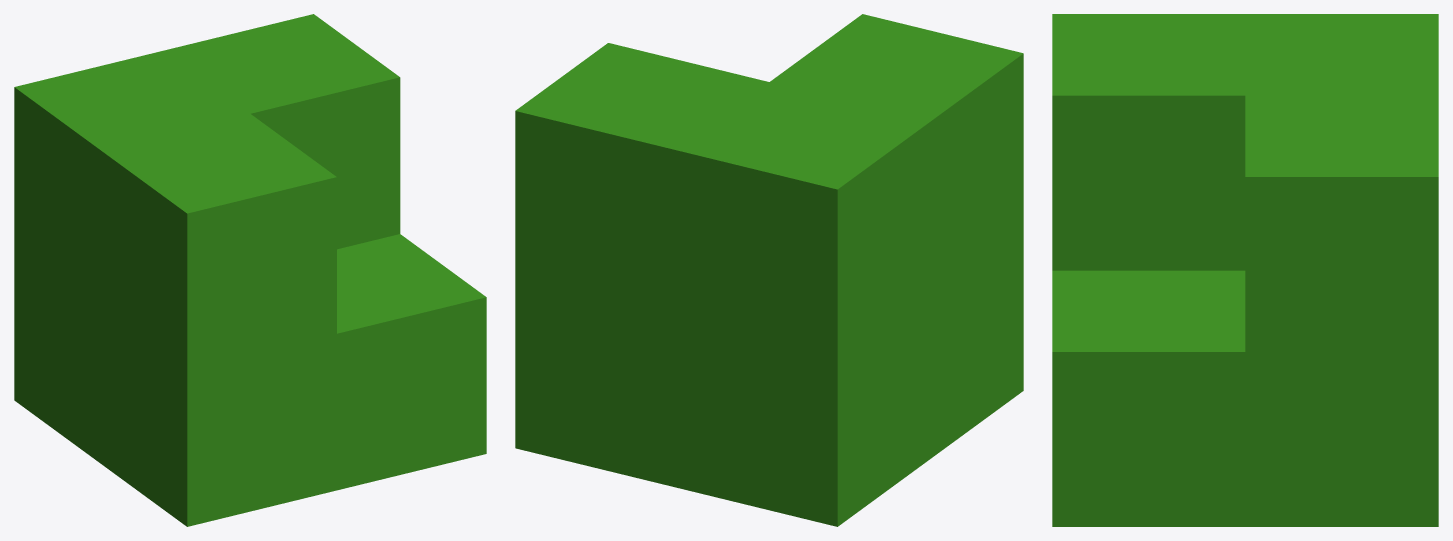
The model's file is 2x2x2-1-voxel-removed.obj.
The picture shows the model from 3 angles, left to right: view 1: azimuth 30°, elevation 25°; view 2: azimuth 150°, elevation 25°; view 3: azimuth 270°, elevation 25°; orthographic projection. The views are drawn at different scales.
Size of the model in its own units: 0.2 by 0.2 by 0.2.
1 material, 1 textured.
